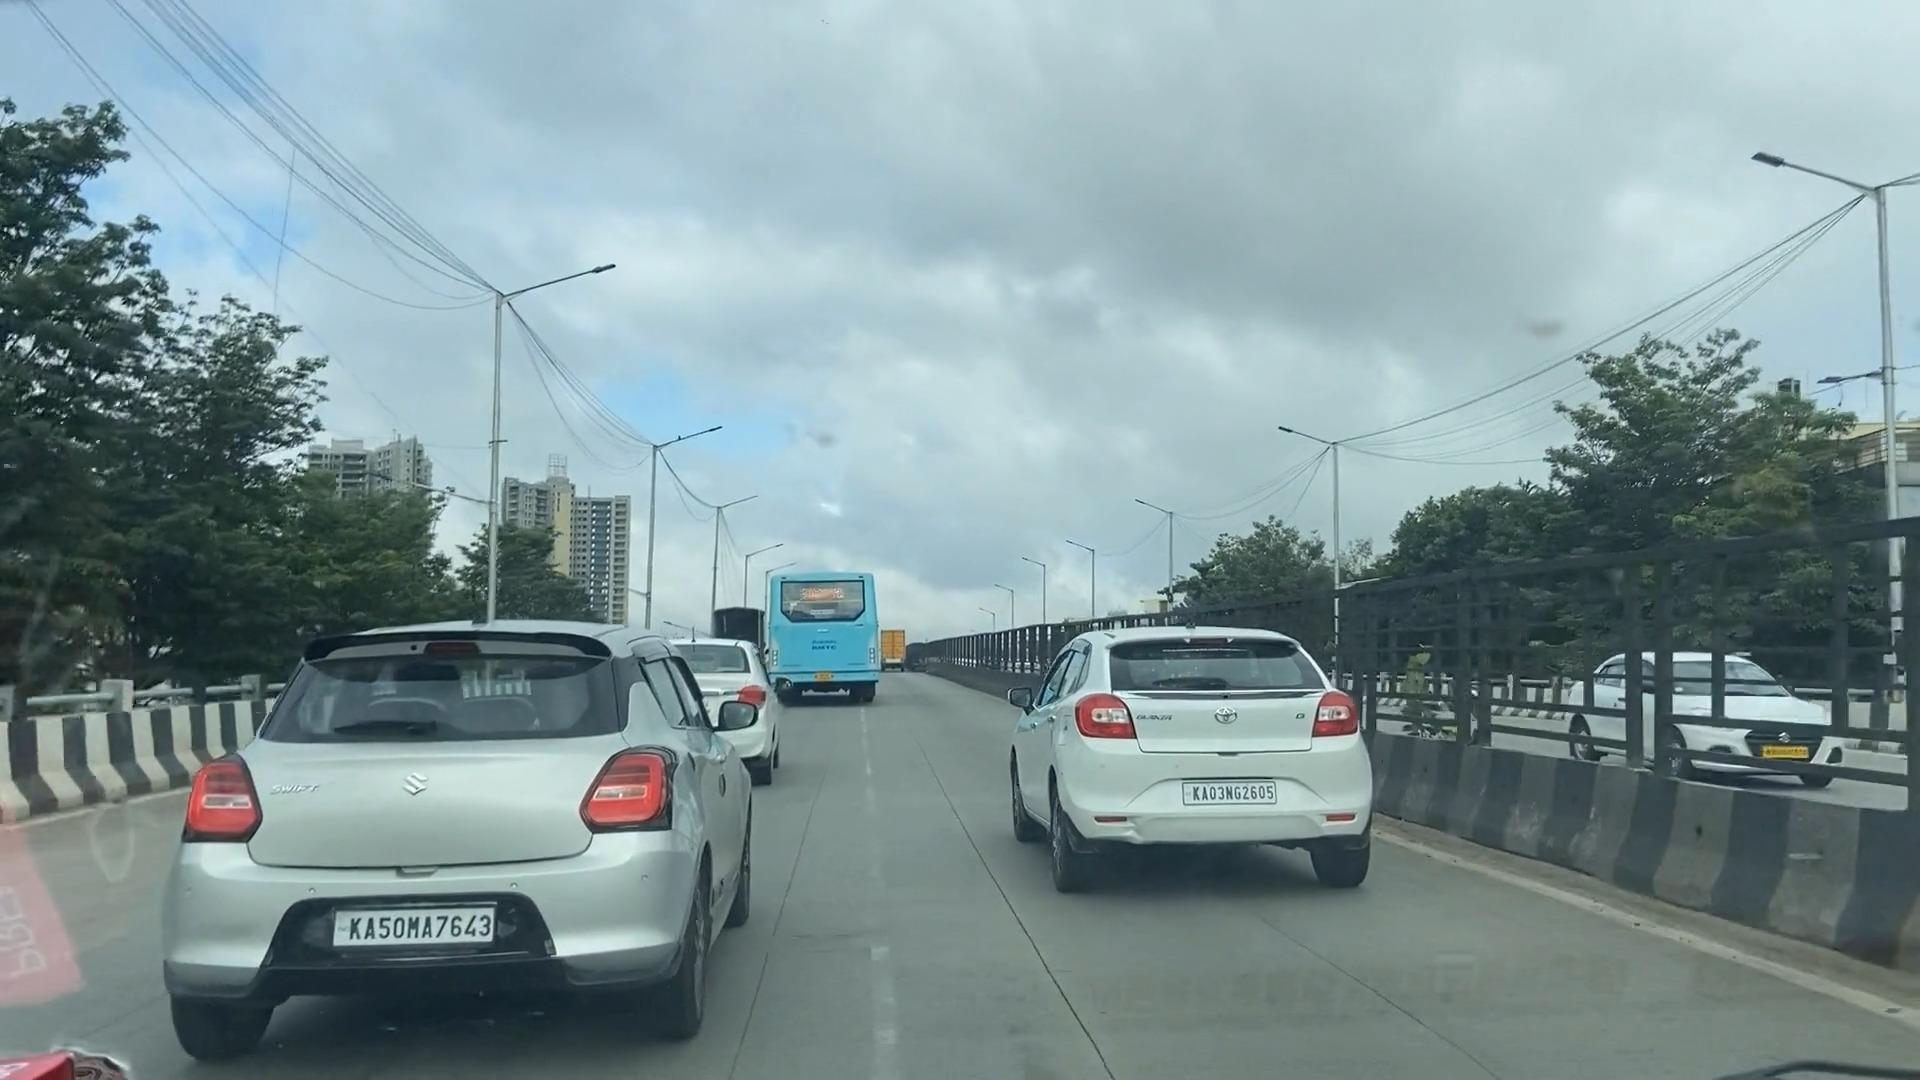HMV: (765, 534, 907, 724)
LMV: (152, 546, 754, 1062), (1011, 615, 1414, 910)
